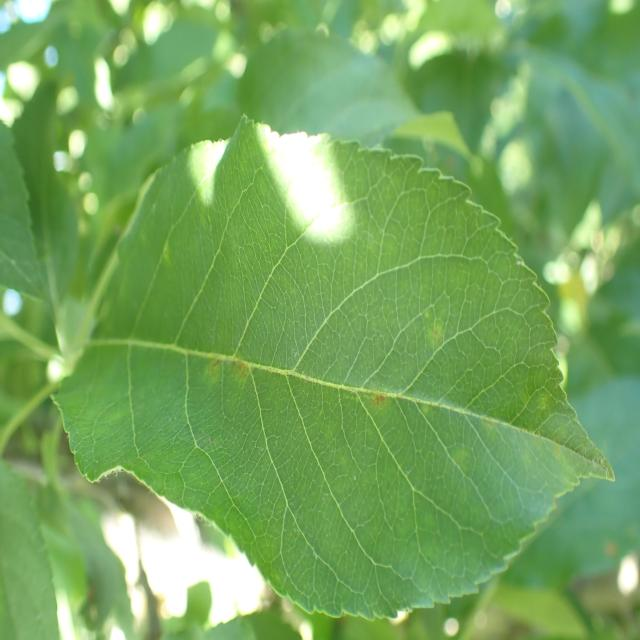scab: (138, 210, 578, 545)
